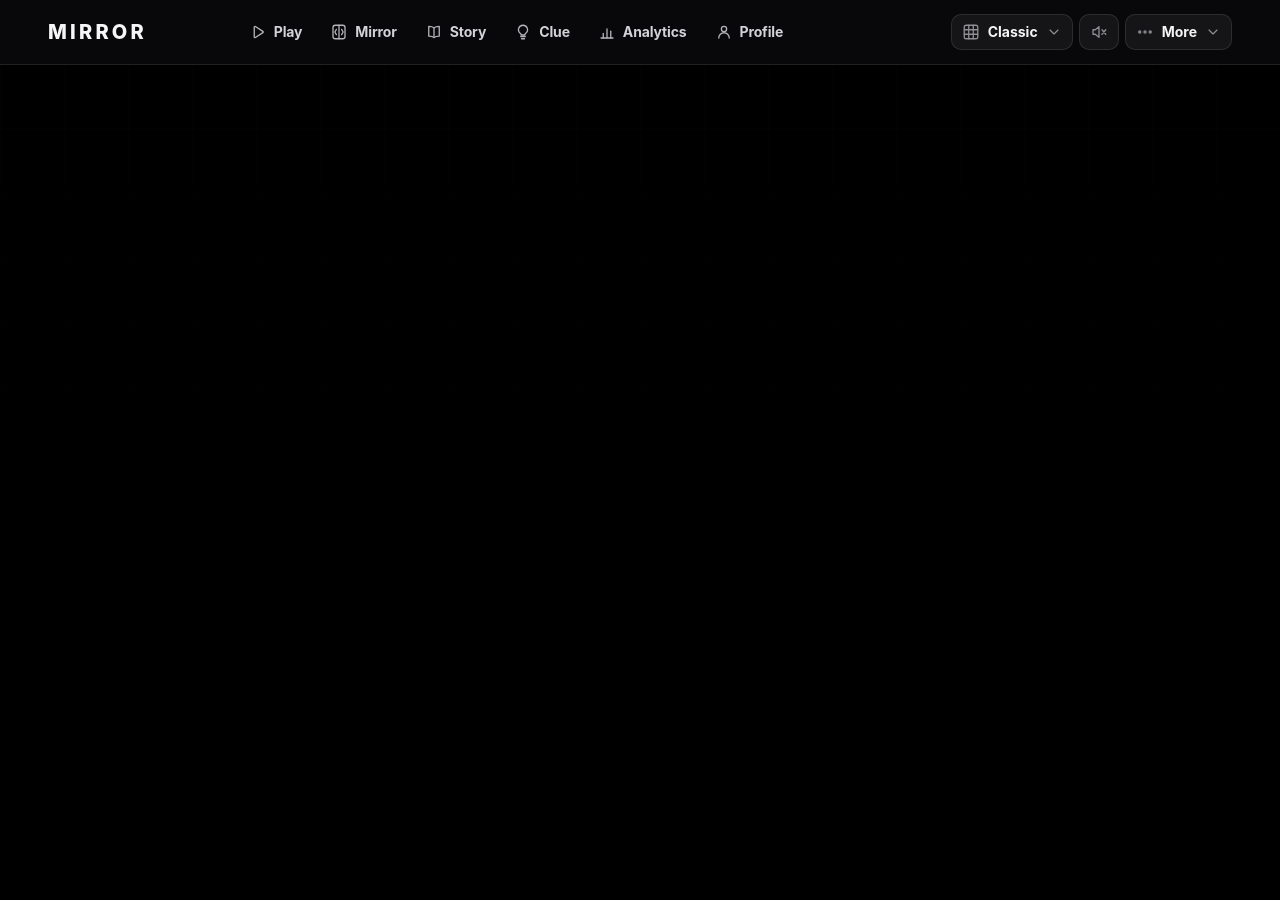
AppHeader › exposes audio volume inside a popover (not in the header chrome)
Click the button named "Sound off" at point(1099, 32), box [1079, 14, 1119, 50]
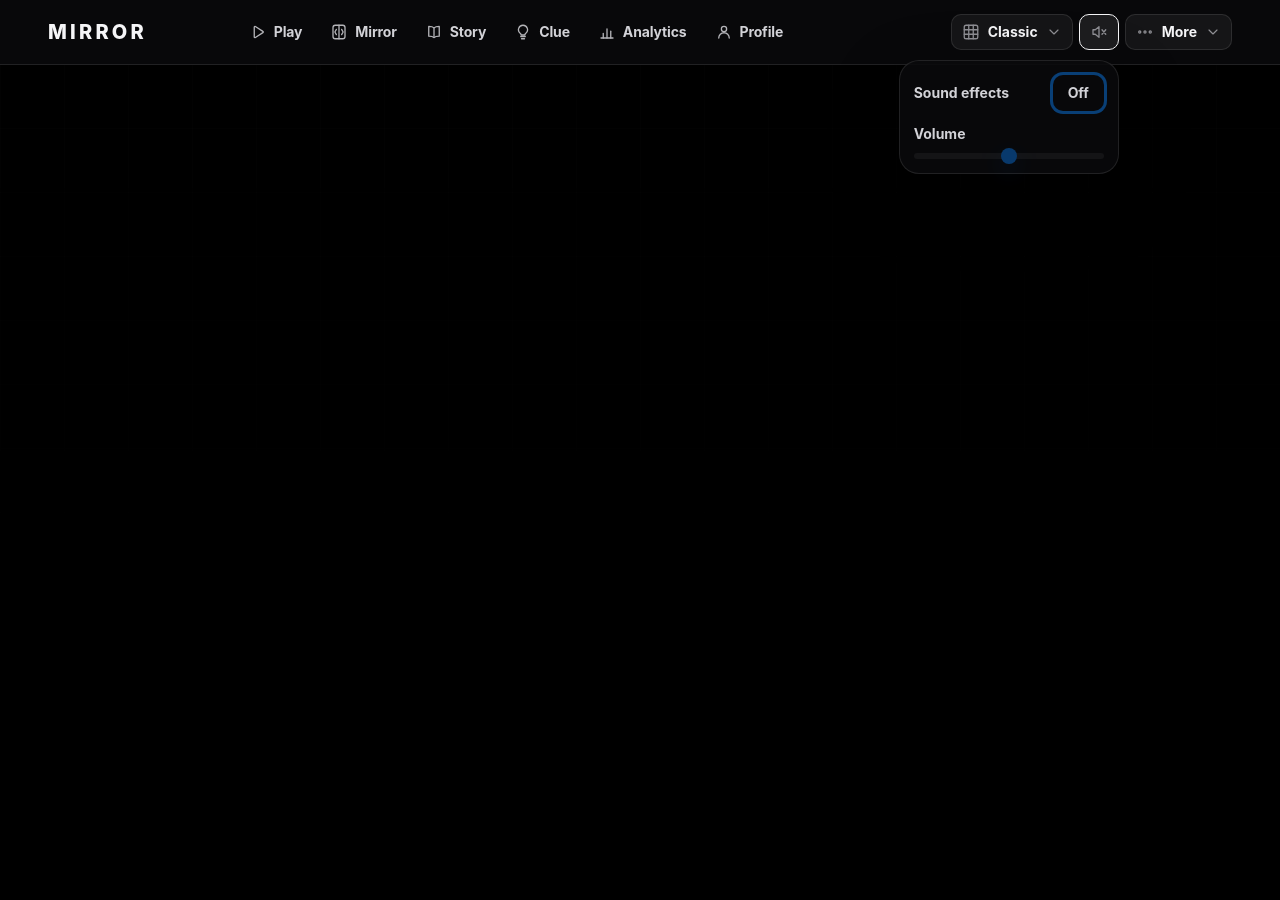
Check: the slider named "Audio volume" is disabled, box [914, 153, 1104, 159]
